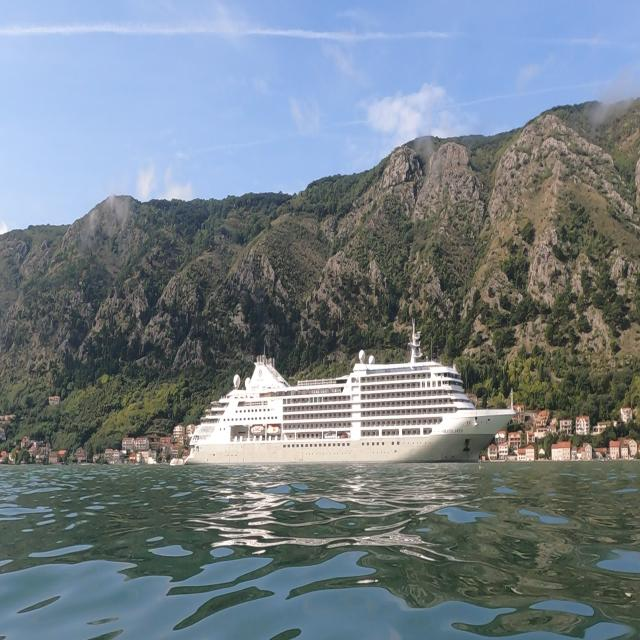boat: (182, 316, 517, 467)
